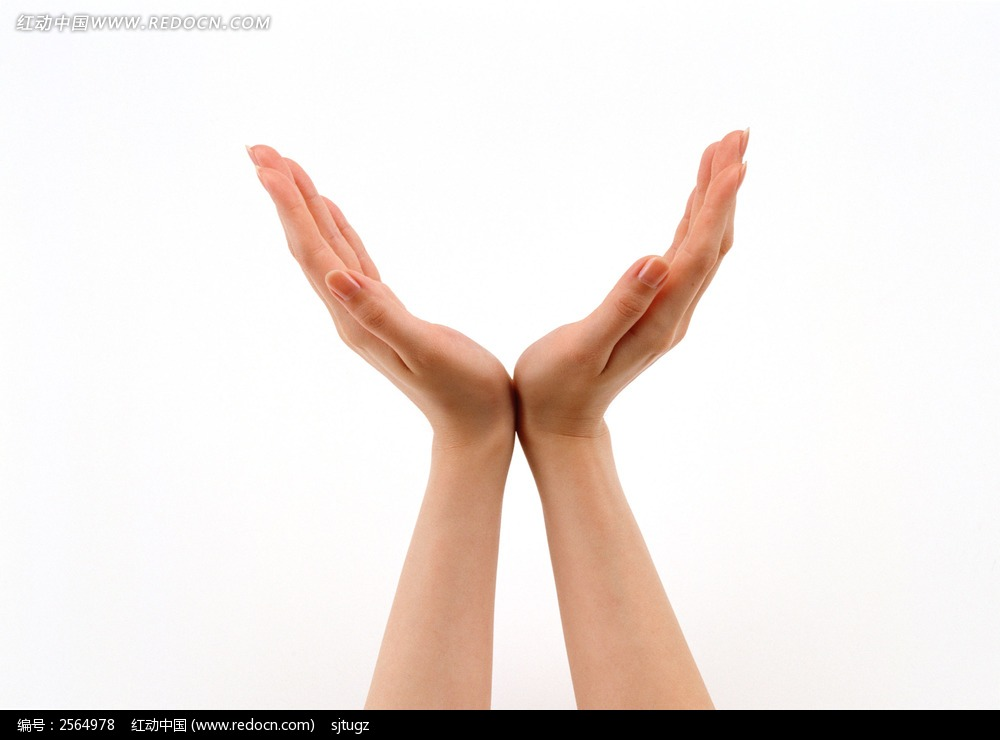no-phone: (201, 96, 810, 450)
